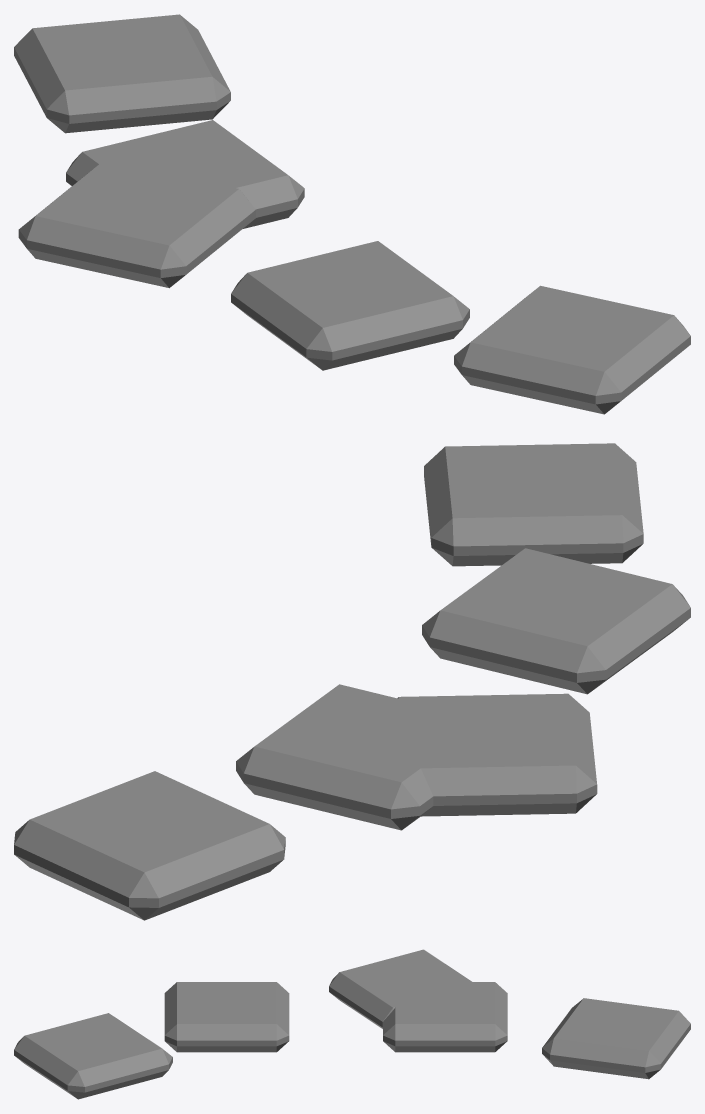
Rendered from stepping stones.fbx.
3 views of the same model, one above another, from view 1: azimuth 30°, elevation 25°; view 2: azimuth 150°, elevation 25°; view 3: azimuth 270°, elevation 25° (orthographic). The views are drawn at different scales.
Parts seen in each view (by area): view 1: beveled_cuboid_4, beveled_cuboid_3, beveled_cuboid_2, beveled_cuboid_1, beveled_cuboid; view 2: beveled_cuboid_4, beveled_cuboid_3, beveled_cuboid_2, beveled_cuboid, beveled_cuboid_1; view 3: beveled_cuboid_3, beveled_cuboid_4, beveled_cuboid_2, beveled_cuboid, beveled_cuboid_1.
Part boxes in pixels (box(x1,y1,x2,y2)): beveled_cuboid_4: box(14, 14, 230, 133); beveled_cuboid_3: box(231, 241, 469, 370); beveled_cuboid_2: box(454, 285, 690, 414); beveled_cuboid_1: box(18, 161, 255, 288); beveled_cuboid: box(66, 120, 304, 228); beveled_cuboid_4: box(14, 771, 285, 920); beveled_cuboid_3: box(422, 548, 690, 694); beveled_cuboid_2: box(424, 443, 643, 566); beveled_cuboid: box(236, 684, 486, 830); beveled_cuboid_1: box(397, 693, 597, 816); beveled_cuboid_3: box(164, 982, 289, 1052); beveled_cuboid_4: box(542, 998, 690, 1079); beveled_cuboid_2: box(14, 1013, 172, 1099); beveled_cuboid: box(383, 982, 507, 1052); beveled_cuboid_1: box(329, 949, 476, 1028).
Bounding box in the file's own units: 30.97 × 3.12 × 67.82.
1 material, 1 textured.
